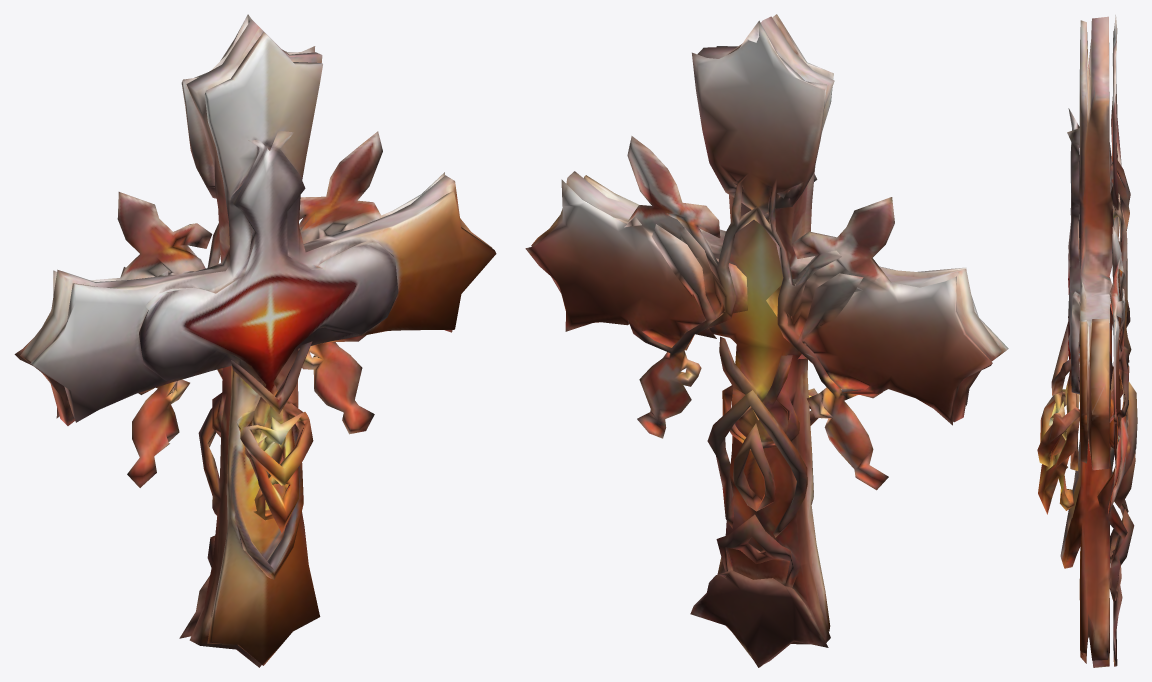
The model's file is power-up-pickup.comp.glb.
The picture shows the model from 3 angles, left to right: view 1: azimuth 30°, elevation 25°; view 2: azimuth 150°, elevation 25°; view 3: azimuth 270°, elevation 25°; orthographic projection.
Visible parts, largest first — view 1: power-up-pickup; view 2: power-up-pickup; view 3: power-up-pickup.
Part boxes in pixels (box(x1,y1,x2,y2)): power-up-pickup: box(14, 14, 496, 667); power-up-pickup: box(525, 14, 1008, 667); power-up-pickup: box(1037, 15, 1137, 667).
Bounding box in the file's own units: 0.2181 × 0.2884 × 0.0401.
1 material, 1 textured.
